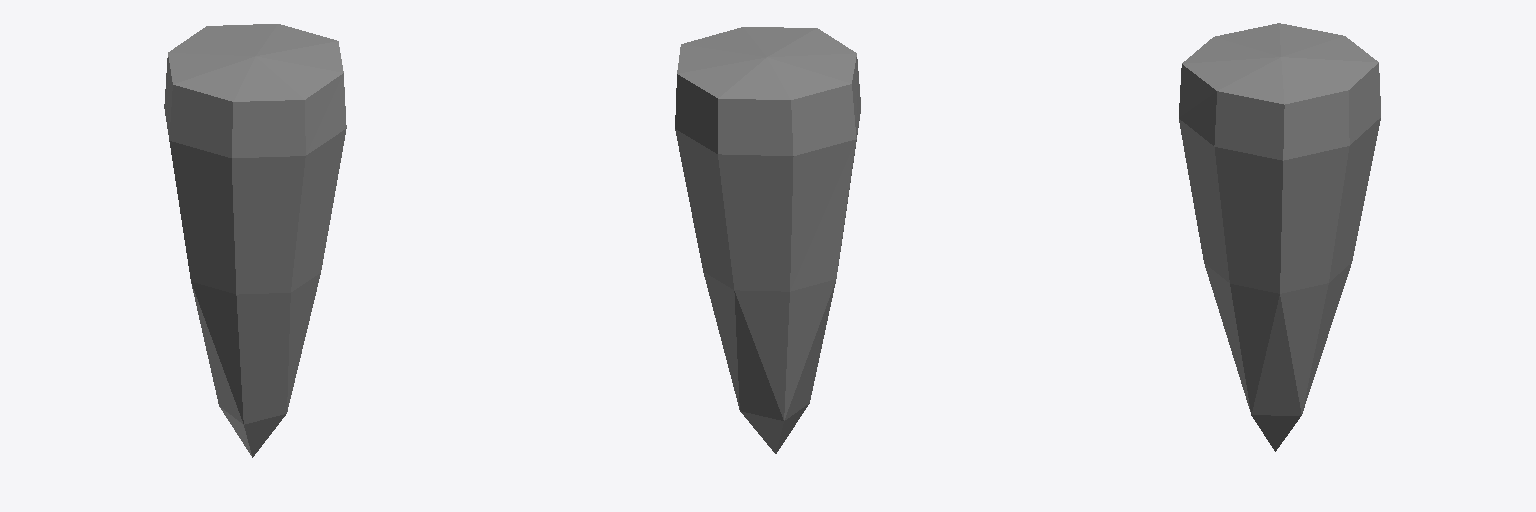
File: step_stone_02_lava.obj
3 views of the same model, side by side, from view 1: azimuth 30°, elevation 25°; view 2: azimuth 150°, elevation 25°; view 3: azimuth 270°, elevation 25° (orthographic).
Parts seen in each view (by area): view 1: step_stone_02_lava; view 2: step_stone_02_lava; view 3: step_stone_02_lava.
Boxes of the visible parts, x1=… form: step_stone_02_lava: x1=164, y1=24, x2=346, y2=457; step_stone_02_lava: x1=675, y1=27, x2=860, y2=453; step_stone_02_lava: x1=1179, y1=23, x2=1380, y2=451.
Size of the model in its own units: 153 by 332 by 153.